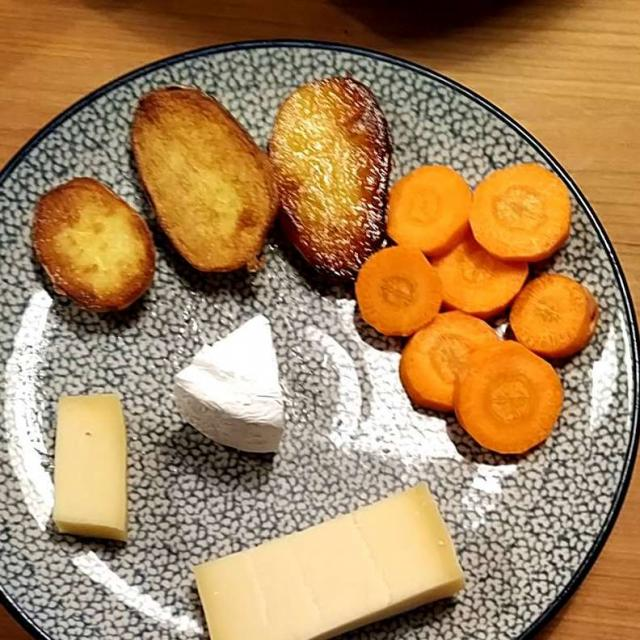baked-potato: (34, 80, 387, 310)
carrot-raw: (355, 164, 589, 463)
cream-cheese: (175, 314, 285, 454)
hard-cheese: (55, 388, 461, 638)
